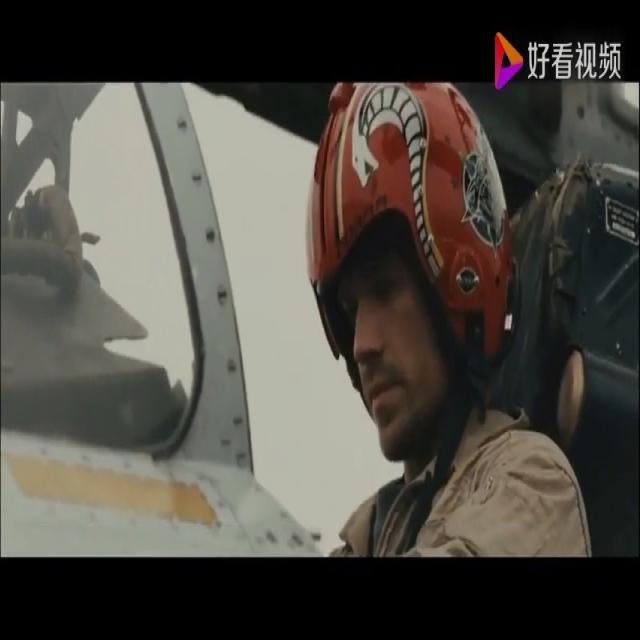non-fight: (282, 69, 596, 558)
